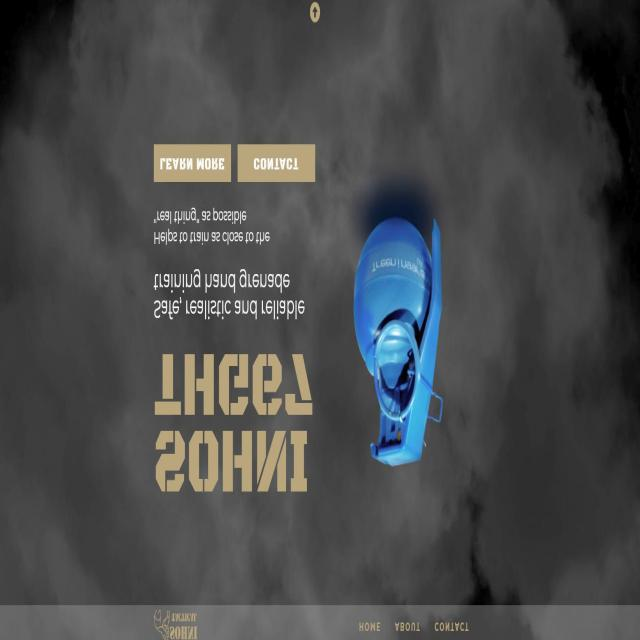grenade: (355, 215, 445, 470), (154, 609, 201, 640)
